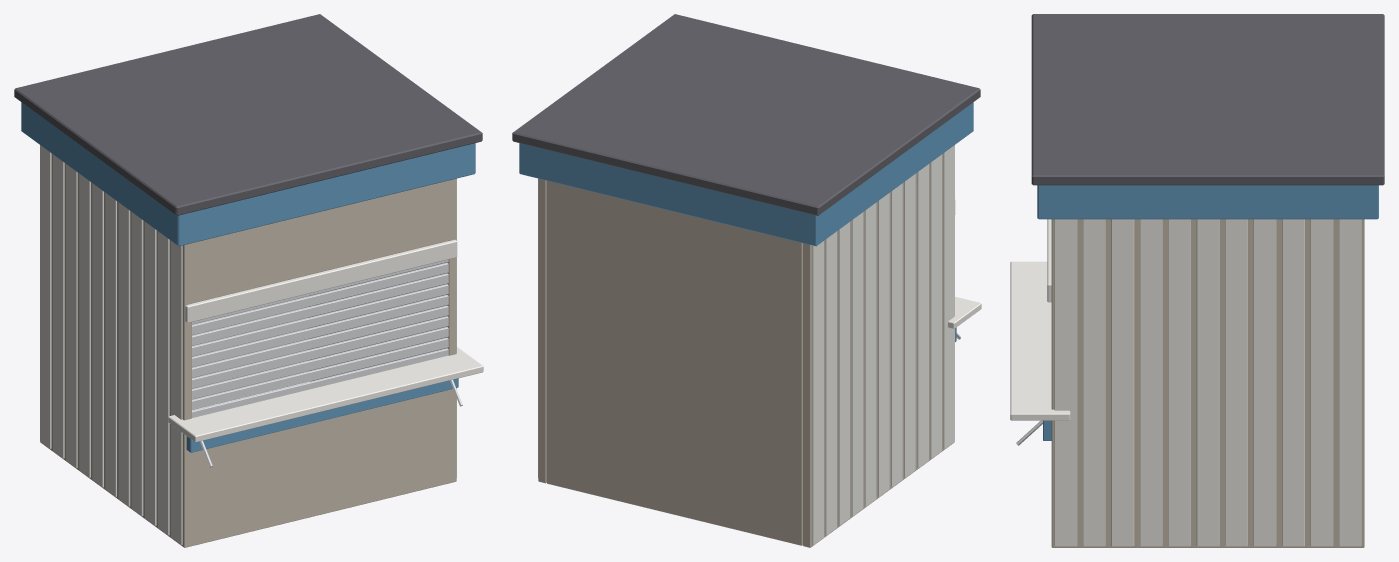
File: amusement-arcade-and-seaside-pier-kiosk-unit-shell-9b5aeee3__35395.glb
3 views of the same model, side by side, from view 1: azimuth 30°, elevation 25°; view 2: azimuth 150°, elevation 25°; view 3: azimuth 270°, elevation 25° (orthographic). The views are drawn at different scales.
Parts seen in each view (by area): view 1: kiosk-unit-shell, shutter; view 2: kiosk-unit-shell; view 3: kiosk-unit-shell.
Part boxes in pixels (left/top/right/bottom): kiosk-unit-shell: left=14, top=14, right=483, bottom=547; shutter: left=192, top=259, right=448, bottom=417; kiosk-unit-shell: left=512, top=14, right=981, bottom=547; kiosk-unit-shell: left=1010, top=14, right=1384, bottom=547.
Bounding box in the file's own units: 2.7 × 2.96 × 2.63.
